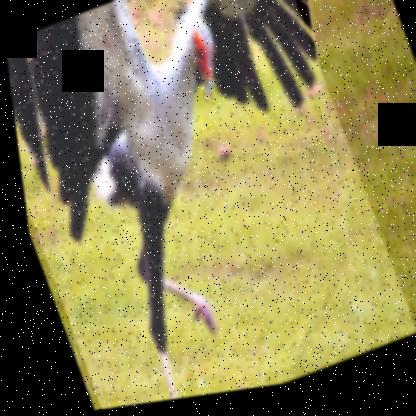Sagittarius serpentarius: (0, 0, 412, 415)
